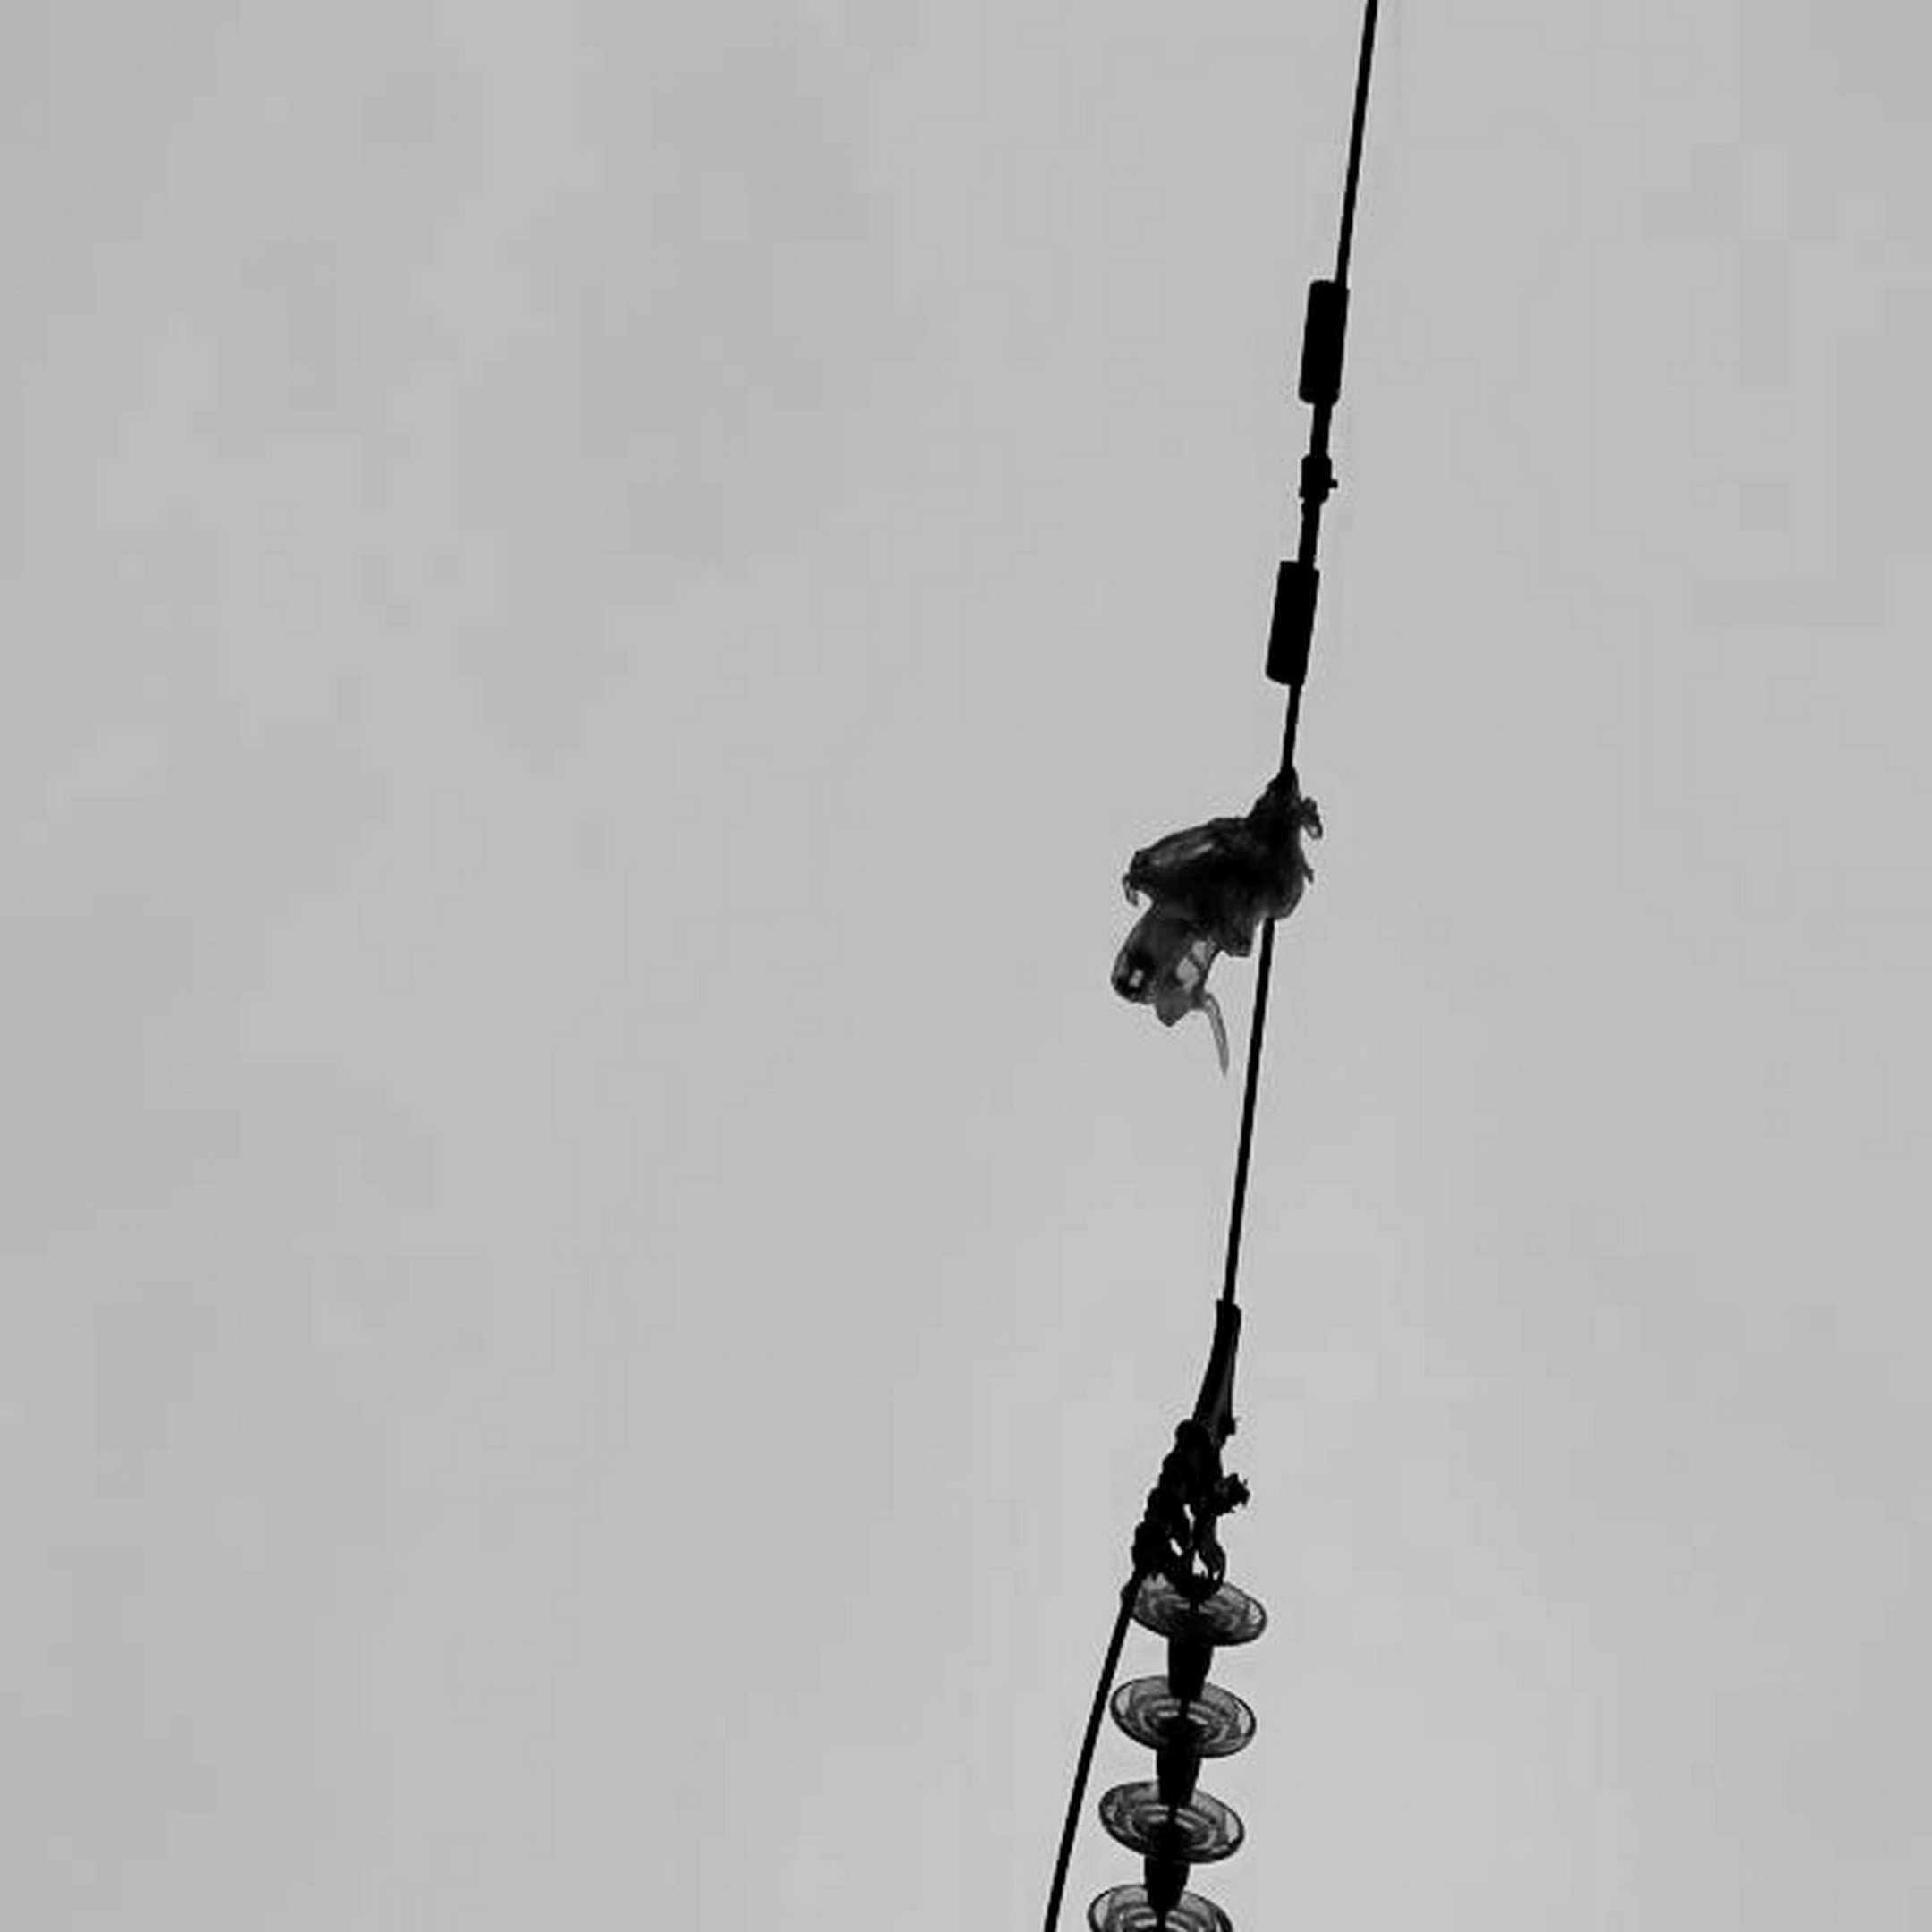wire foreign body: (1093, 759, 1369, 1062)
